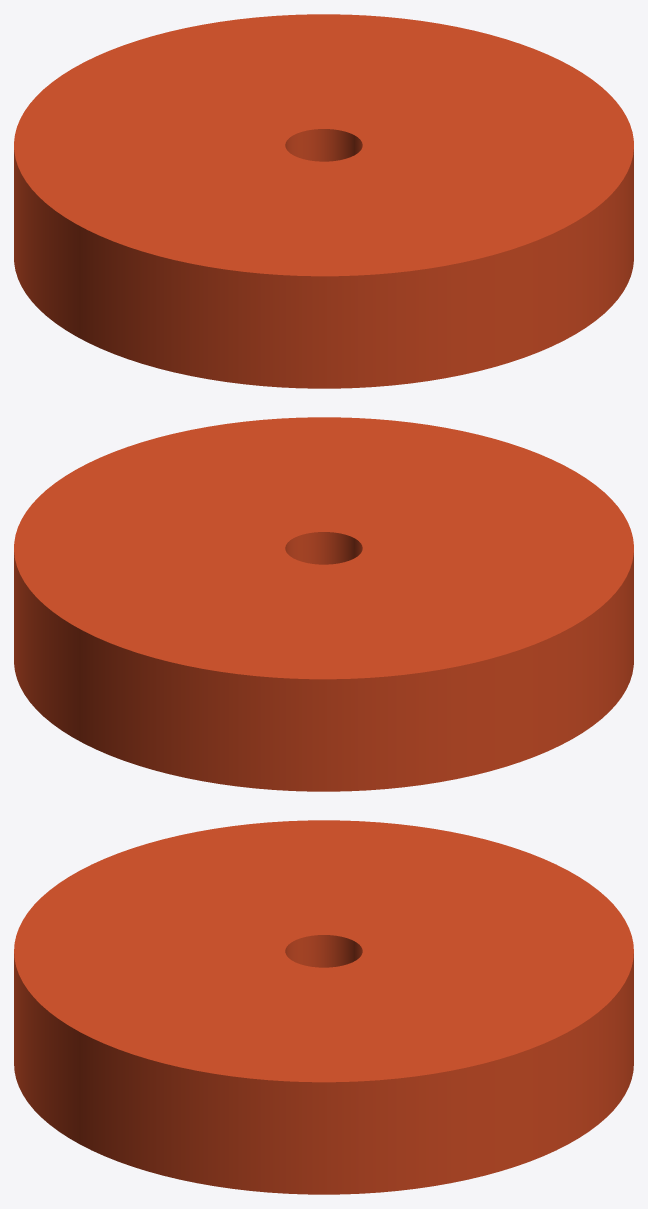
The model's file is Disk3.dae.
3 renders of one model, top to bottom at view 1: azimuth 30°, elevation 25°; view 2: azimuth 150°, elevation 25°; view 3: azimuth 270°, elevation 25°, orthographic.
Visible parts, largest first — view 1: ID2; view 2: ID2; view 3: ID2.
Boxes of the visible parts, x1,y1,x2,y2 form: ID2: [14, 14, 633, 388]; ID2: [14, 417, 633, 791]; ID2: [14, 820, 633, 1194].
Bounding box in the file's own units: 0.04 × 0.04 × 0.008.
